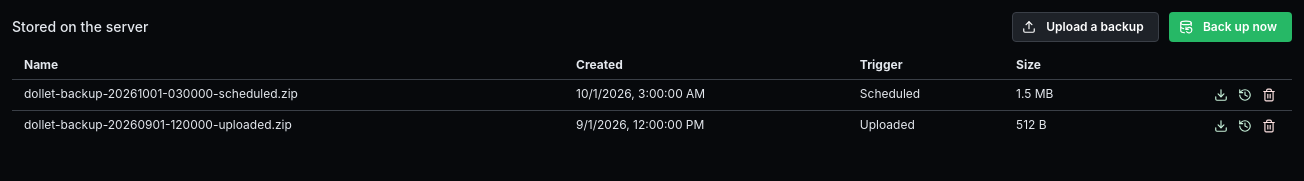
it: taking a backup › adds the new backup to the list
Expected: the cell "dollet-backup-20261001-030000-scheduled.zip" is shown, 12,79 -> 564,110
Click the button "Back up now" at (1230, 27), box 1169,12 -> 1292,42
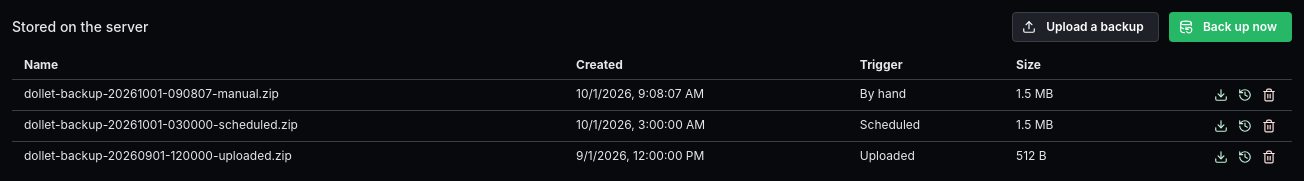
Now the cell "dollet-backup-20261001-090807-manual.zip" is shown, box 12,79 -> 564,110
